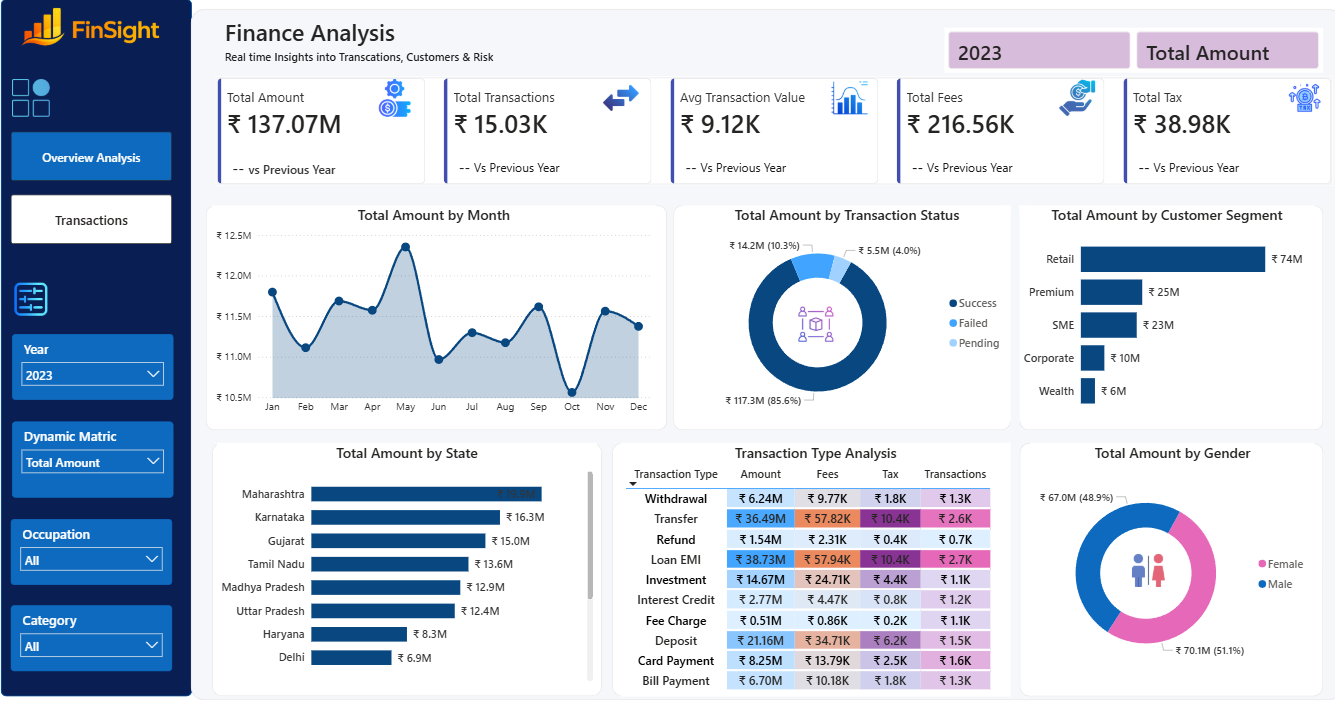

What the dashboard file says about the page in this screenshot:
{"tool":"powerbi","page":{"name":"Overview Analysis","canvas":[1800,950],"ordinal":0},"visuals":[{"type":"shape","box":[11.7,0,255,930],"z":0},{"type":"shape","box":[265,13.3,1535,921.7],"z":1000},{"type":"image","box":[0,0,266.7,75],"z":2000},{"type":"cardVisual","fields":{"Data":["finance_transactions.Dashboard Title"]},"box":[293.3,11.7,458.3,86.7],"z":3000},{"type":"cardVisual","fields":{"Data":["finance_transactions.Total Amount","finance_transactions.Total Transaction","finance_transactions.Avg Transaction Value","finance_transactions.Total Fees","finance_transactions.Total Tax"]},"box":[293.3,98.3,1503.3,155],"z":4000},{"type":"slicer","fields":{"Values":["Calendar Table.Year"]},"box":[26.7,446.7,215,88.3],"z":5000},{"type":"image","box":[511.7,106.7,50,50],"z":6000},{"type":"image","box":[813.3,106.7,50,50],"z":7000},{"type":"image","box":[1421.7,106.7,50,50],"z":8000},{"type":"image","box":[1118.3,106.7,50,50],"z":9000},{"type":"image","box":[1725,106.7,50,50],"z":10000},{"type":"shape","box":[285,275,615,300],"z":11000},{"type":"slicer","fields":{"Values":["Dynamic Matric.Dynamic Matric"]},"box":[26.7,563.3,215,101.7],"z":12000},{"type":"areaChart","fields":{"Y":["finance_transactions.Total Amount"],"Category":["Calendar Table.Month"]},"box":[293.3,275,591.7,288.3],"z":13000},{"type":"cardVisual","fields":{"Data":["finance_transactions.Selected Year","finance_transactions.Selected Dynamic Measure"]},"box":[1270,38.3,505,60],"z":14000},{"type":"shape","box":[908.3,275,450,300],"z":15000},{"type":"donutChart","title":"Total Amount by Transaction Status","fields":{"Y":["finance_transactions.Total Amount"],"Category":["finance_transactions.transaction_status"]},"box":[921.7,275,436.7,288.3],"z":16000},{"type":"shape","box":[1370,275,405,300],"z":17000},{"type":"barChart","title":"Total Amount by Customer Segment","fields":{"Y":["finance_transactions.Total Amount"],"Category":["customers.customer_segment"]},"box":[1370,275,393.3,288.3],"z":18000},{"type":"shape","box":[293.3,591.7,520,338],"z":19000},{"type":"barChart","title":"Total Amount by State","fields":{"Y":["finance_transactions.Total Amount"],"Category":["customers.state"]},"box":[300,591.7,506.7,323.3],"z":20000},{"type":"shape","box":[826.7,591.7,530,338],"z":21000},{"type":"tableEx","title":"Transaction Type Analysis","fields":{"Values":["finance_transactions.transaction_type","finance_transactions.Total Amount","finance_transactions.Total Fees","finance_transactions.Total Tax","finance_transactions.Total Transactions"]},"box":[838.3,591.7,520,338.3],"z":22000},{"type":"shape","box":[1370,591.7,405,338.3],"z":23000},{"type":"donutChart","title":"Total Amount by Gender","fields":{"Y":["finance_transactions.Total Amount"],"Category":["customers.gender"]},"box":[1385,591.7,378.3,323.3],"z":24000},{"type":"image","box":[1073.3,408.3,50,50],"z":25000},{"type":"image","box":[1516.7,736.7,50,50],"z":26000},{"type":"slicer","fields":{"Values":["customers.occupation"]},"box":[25,693.3,215,88.3],"z":27000},{"type":"slicer","fields":{"Values":["finance_transactions.merchant_category"]},"box":[25,808.3,215,88.3],"z":28000},{"type":"pageNavigator","box":[25,176.7,215,151.7],"z":29000},{"type":"image","box":[26.7,106.7,50,50],"z":30000},{"type":"image","box":[26.7,375,50,50],"z":31000}]}

Visuals, with their boxes on the page's 1800x950 design canvas (x1, y1, x2, y2). These are canvas units, not pixel positions in the 1335x707 screenshot, which may show the page scaled, cropped or inside an application window:
shape: <region>12, 0, 267, 930</region>
shape: <region>265, 13, 1800, 935</region>
image: <region>0, 0, 267, 75</region>
cardVisual - finance_transactions.Dashboard Title: <region>293, 12, 752, 98</region>
cardVisual - finance_transactions.Total Amount x finance_transactions.Total Transaction: <region>293, 98, 1797, 253</region>
slicer - Calendar Table.Year: <region>27, 447, 242, 535</region>
image: <region>512, 107, 562, 157</region>
image: <region>813, 107, 863, 157</region>
image: <region>1422, 107, 1472, 157</region>
image: <region>1118, 107, 1168, 157</region>
image: <region>1725, 107, 1775, 157</region>
shape: <region>285, 275, 900, 575</region>
slicer - Dynamic Matric.Dynamic Matric: <region>27, 563, 242, 665</region>
areaChart - finance_transactions.Total Amount x Calendar Table.Month: <region>293, 275, 885, 563</region>
cardVisual - finance_transactions.Selected Year x finance_transactions.Selected Dynamic Measure: <region>1270, 38, 1775, 98</region>
shape: <region>908, 275, 1358, 575</region>
"Total Amount by Transaction Status" donutChart: <region>922, 275, 1358, 563</region>
shape: <region>1370, 275, 1775, 575</region>
"Total Amount by Customer Segment" barChart: <region>1370, 275, 1763, 563</region>
shape: <region>293, 592, 813, 930</region>
"Total Amount by State" barChart: <region>300, 592, 807, 915</region>
shape: <region>827, 592, 1357, 930</region>
"Transaction Type Analysis" tableEx: <region>838, 592, 1358, 930</region>
shape: <region>1370, 592, 1775, 930</region>
"Total Amount by Gender" donutChart: <region>1385, 592, 1763, 915</region>
image: <region>1073, 408, 1123, 458</region>
image: <region>1517, 737, 1567, 787</region>
slicer - customers.occupation: <region>25, 693, 240, 782</region>
slicer - finance_transactions.merchant_category: <region>25, 808, 240, 897</region>
pageNavigator: <region>25, 177, 240, 328</region>
image: <region>27, 107, 77, 157</region>
image: <region>27, 375, 77, 425</region>
